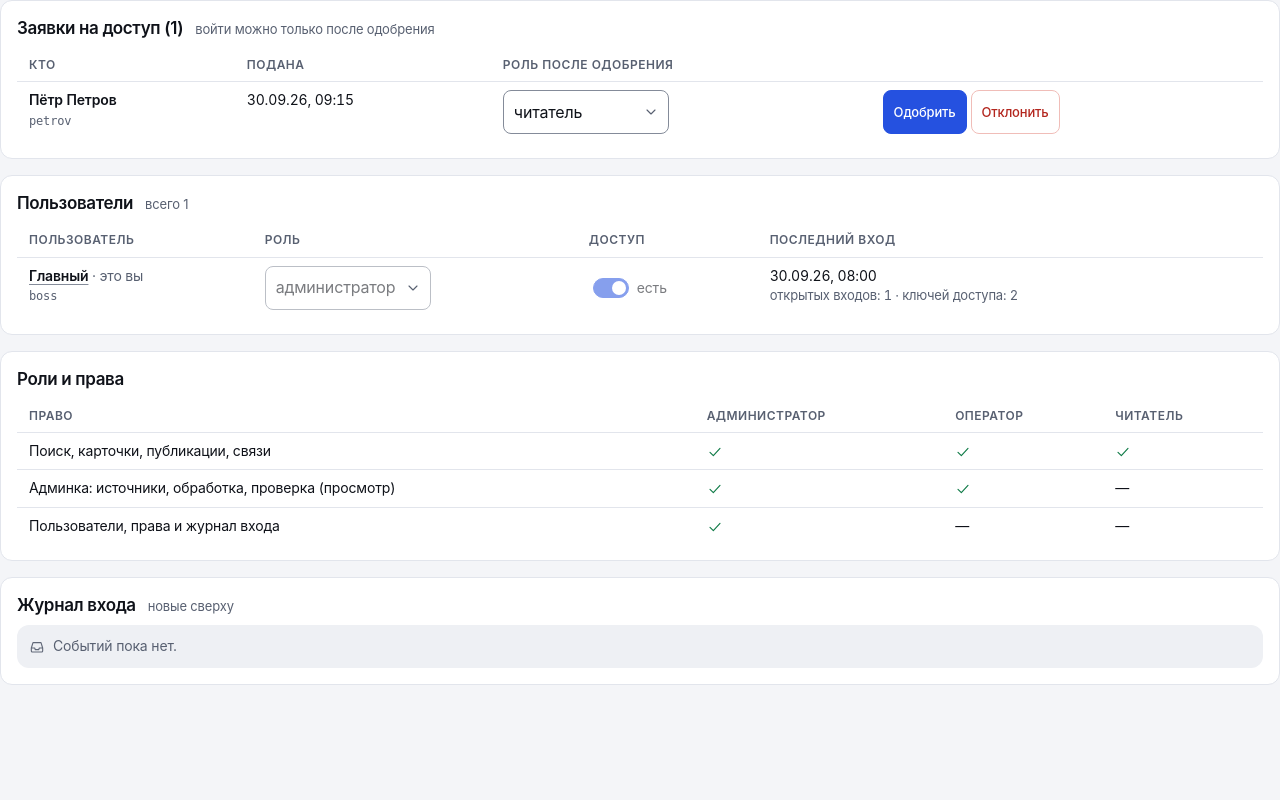
Test case: экран «Пользователи» › отклонение — только после подтверждения; отказ ничего не отправляет
Click the button named "Отклонить «Пётр Петров»".
click(1015, 112)  # box [970, 90, 1060, 134]
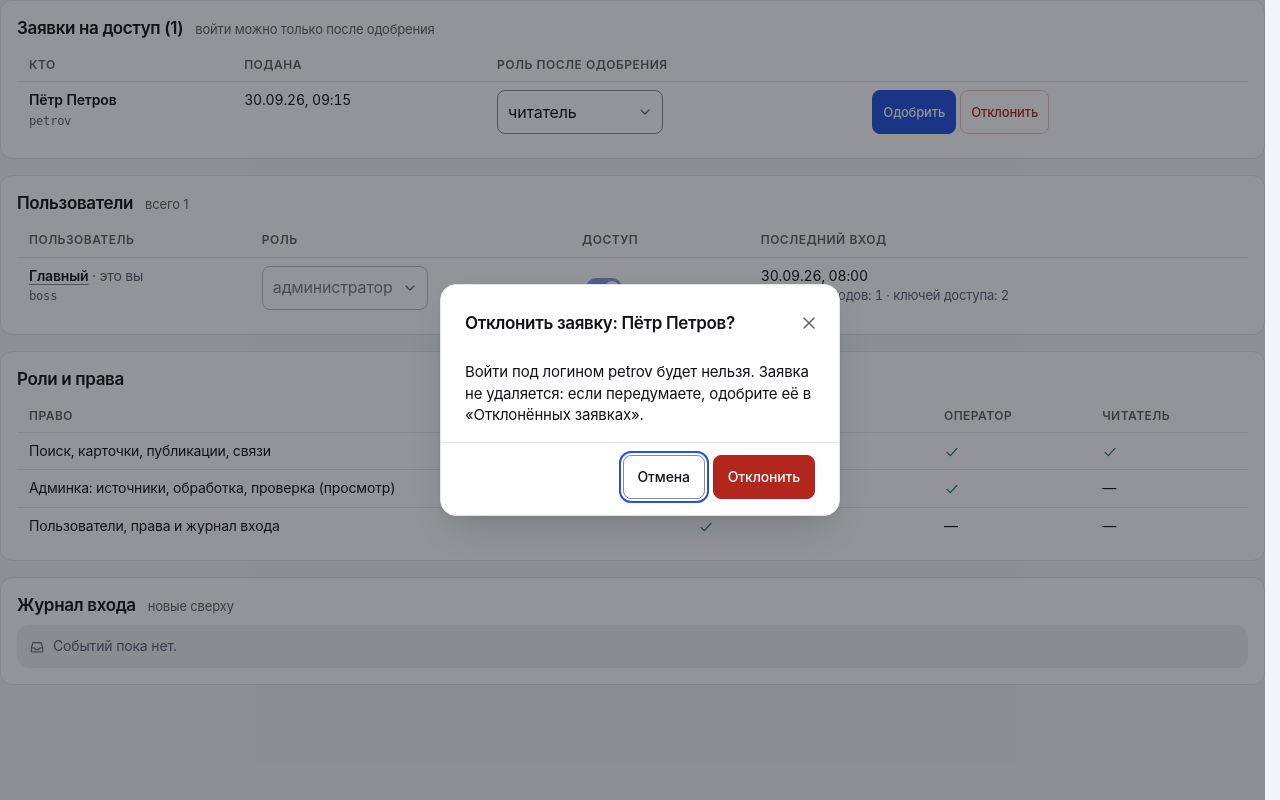
Check: the dialog "Отклонить заявку: Пётр Петров?" shows "petrov", box [465, 362, 811, 424]
Check: the button "Отмена" is shown
// У необратимого действия фокус сначала на «Отмена».
Click the button "Отмена".
click(664, 477)  # box [622, 455, 705, 499]
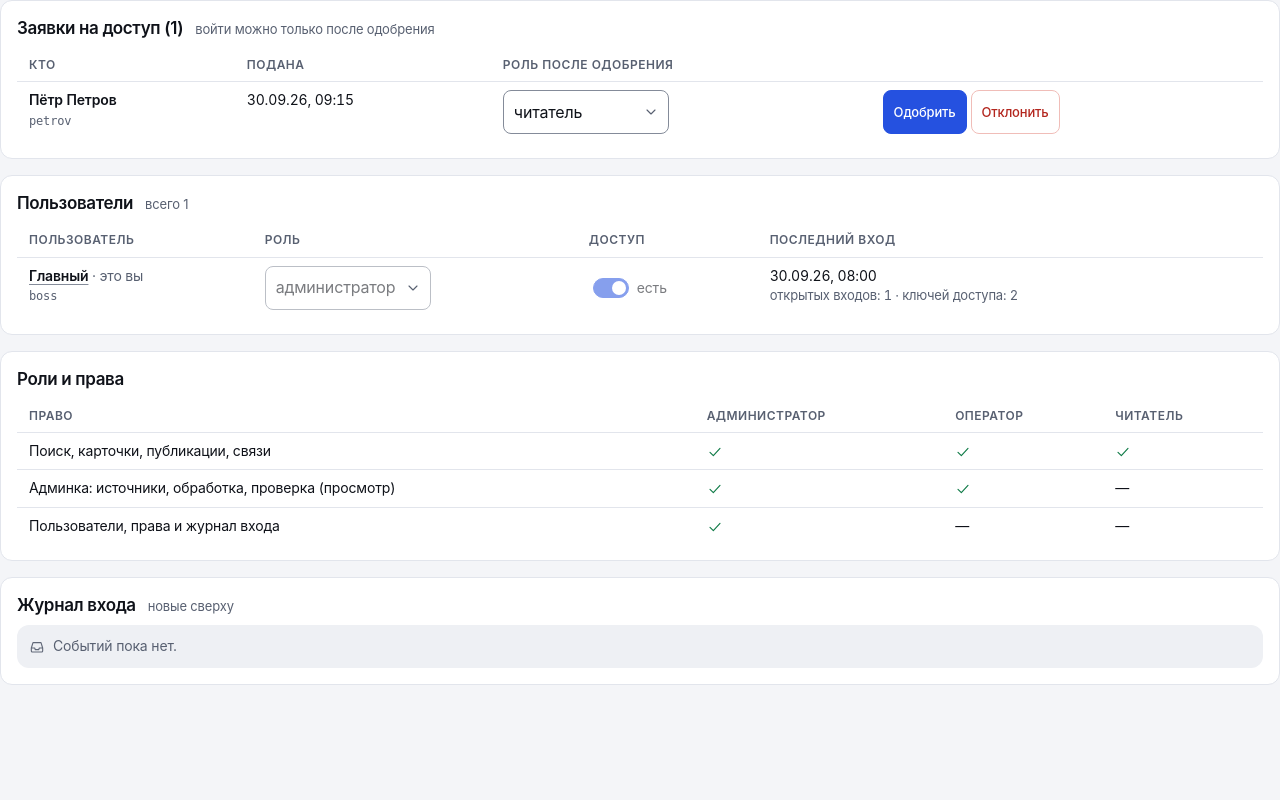
Check: the dialog is gone
Click the button named "Отклонить «Пётр Петров»".
click(1015, 112)  # box [970, 90, 1060, 134]
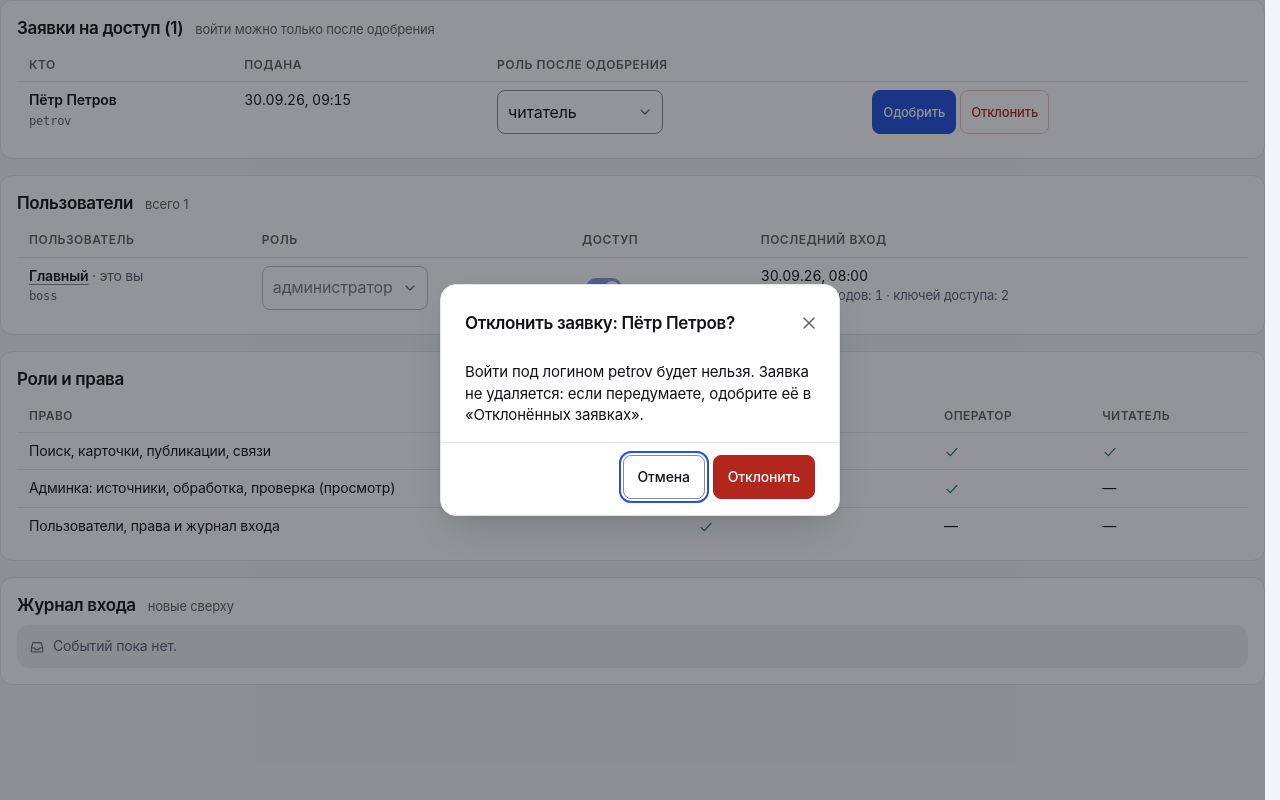
Click the button "Отклонить".
click(764, 477)  # box [713, 455, 815, 499]
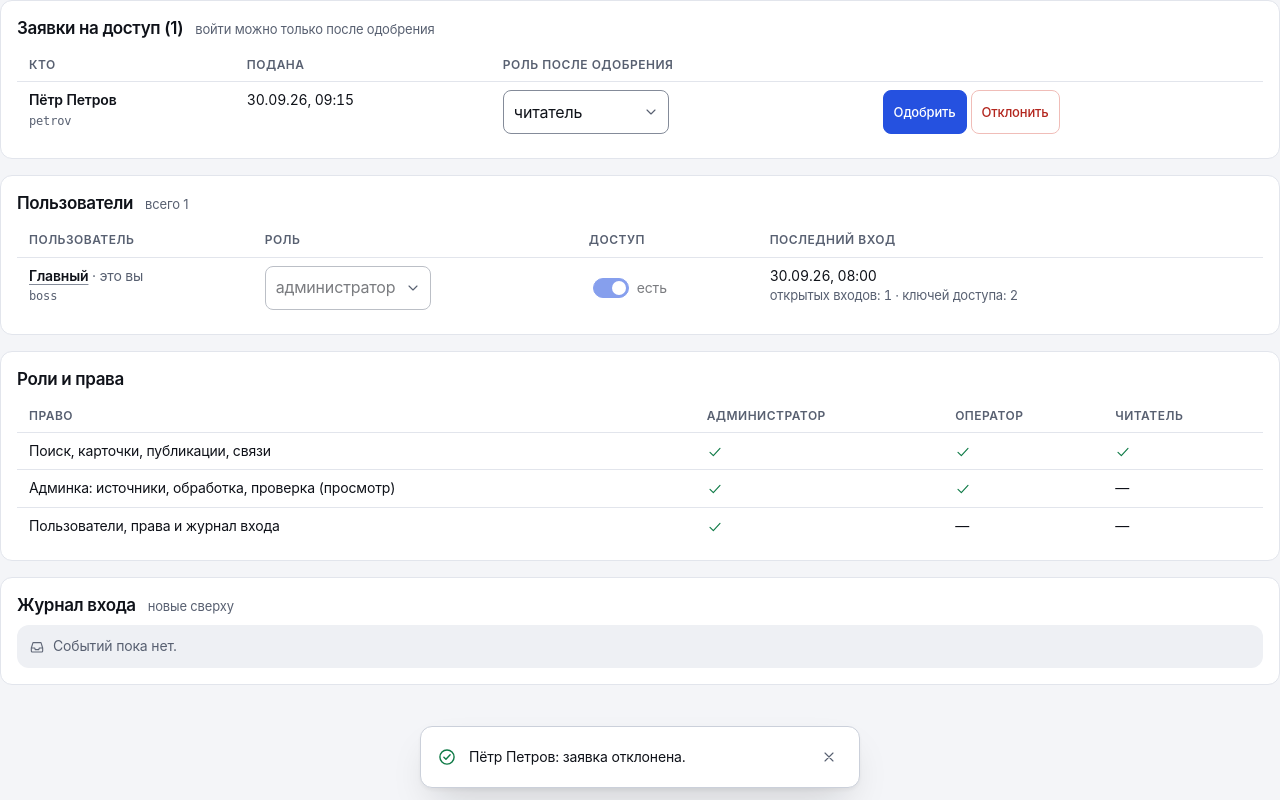
Check: the text "Пётр Петров: заявка отклонена." is shown, box [469, 748, 686, 764]
